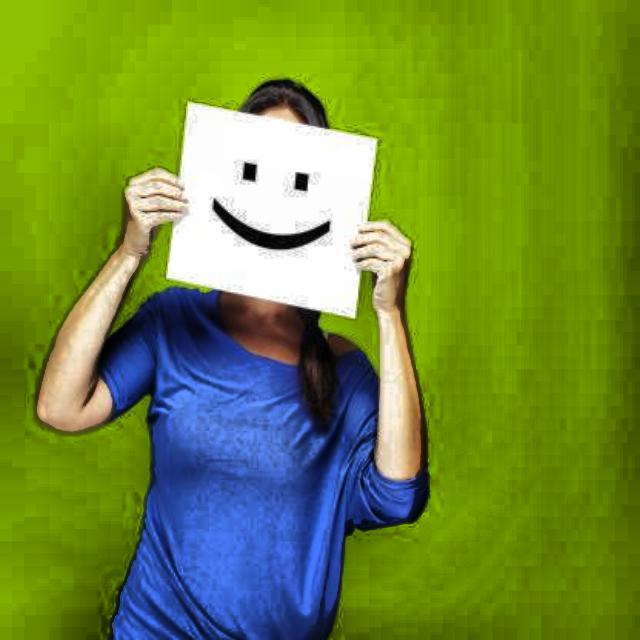happy: (192, 89, 372, 281)
